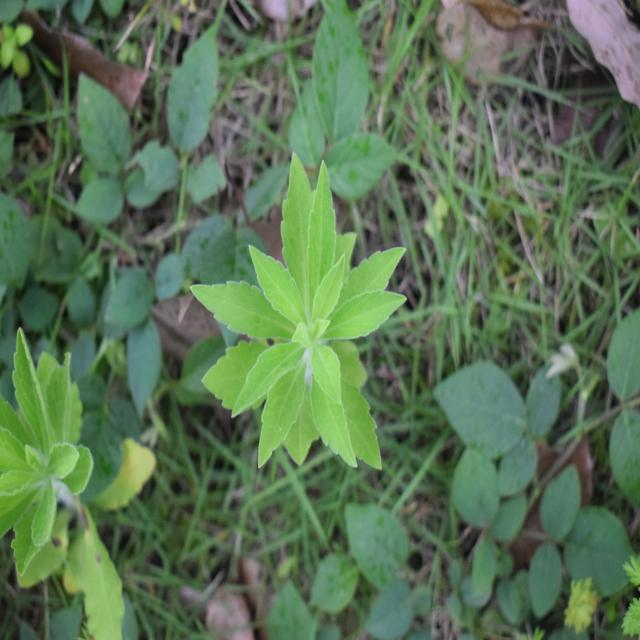horseweed: (196, 164, 394, 476)
